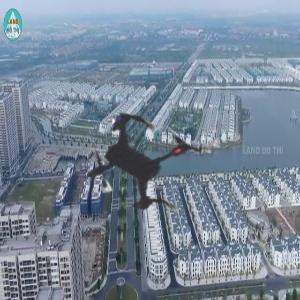drone: (20, 50, 256, 286)
